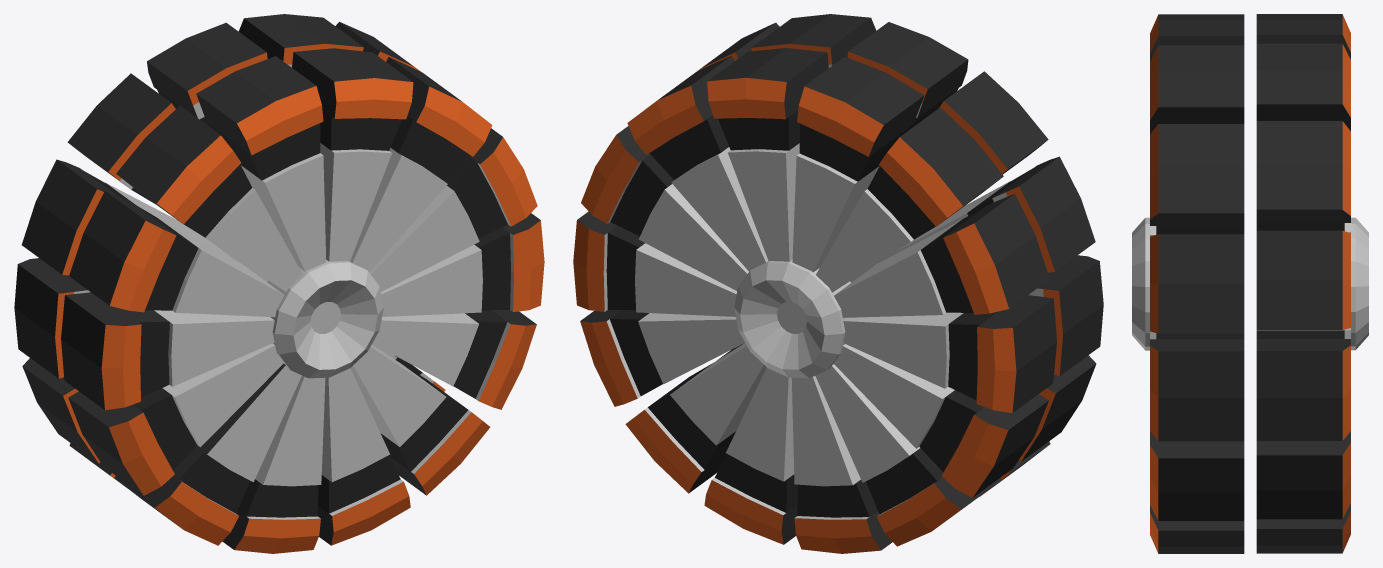
The model's file is wheel37.fbx.
3 renders of one model, left to right at view 1: azimuth 30°, elevation 25°; view 2: azimuth 150°, elevation 25°; view 3: azimuth 270°, elevation 25°, orthographic. The views are drawn at different scales.
Visible parts, largest first — view 1: lanot_wheel36_L; view 2: lanot_wheel36_L; view 3: lanot_wheel36_L.
Part boxes in pixels (<box>): lanot_wheel36_L: <box>14,14,544,553</box>; lanot_wheel36_L: <box>573,14,1103,553</box>; lanot_wheel36_L: <box>1132,14,1368,553</box>.
Size of the model in its own units: 157 by 157 by 68.85.
